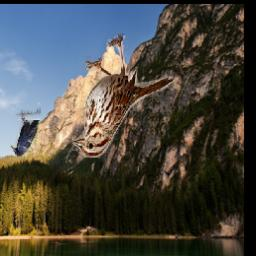Crow: (11, 105, 42, 157)
Sparrow: (71, 33, 175, 158)
